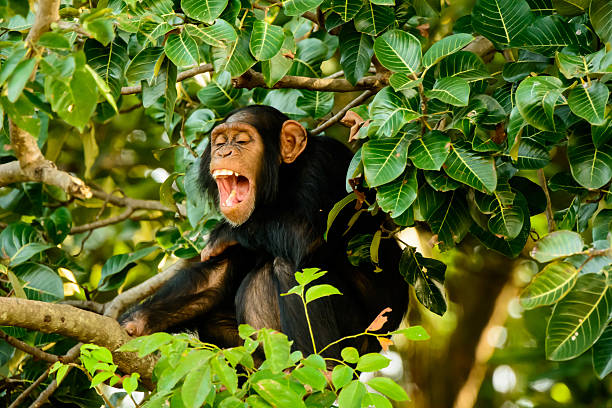chimpanzee: (194, 89, 315, 236)
